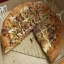pizza: (3, 3, 62, 61)
